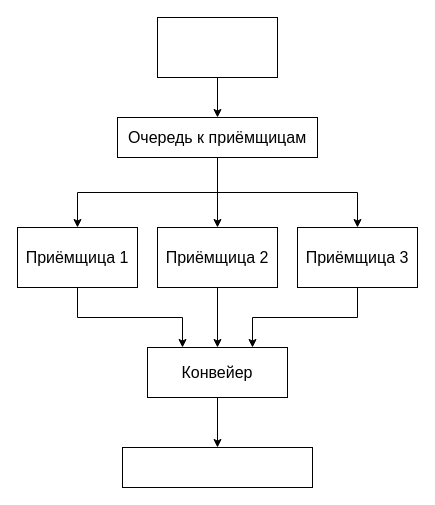
The diagram is 435 pixels wide and 505 high, and some of its shapes have lost their labels. Here are the shapes that lost their labels. From the top down, the centre of each, then its label:
At point 217,47: "Клиенты".
At point 217,467: "Работница по выдаче".
